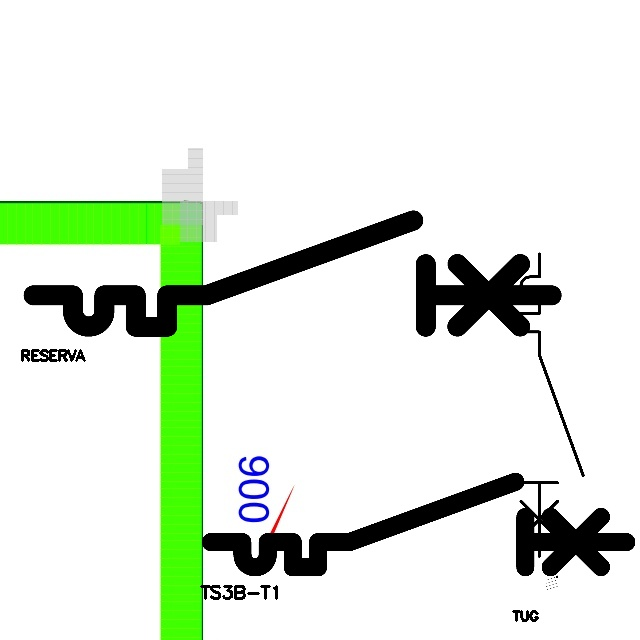interruptor_termomagnetico: (20, 207, 565, 340), (200, 471, 637, 578), (513, 246, 591, 564)
